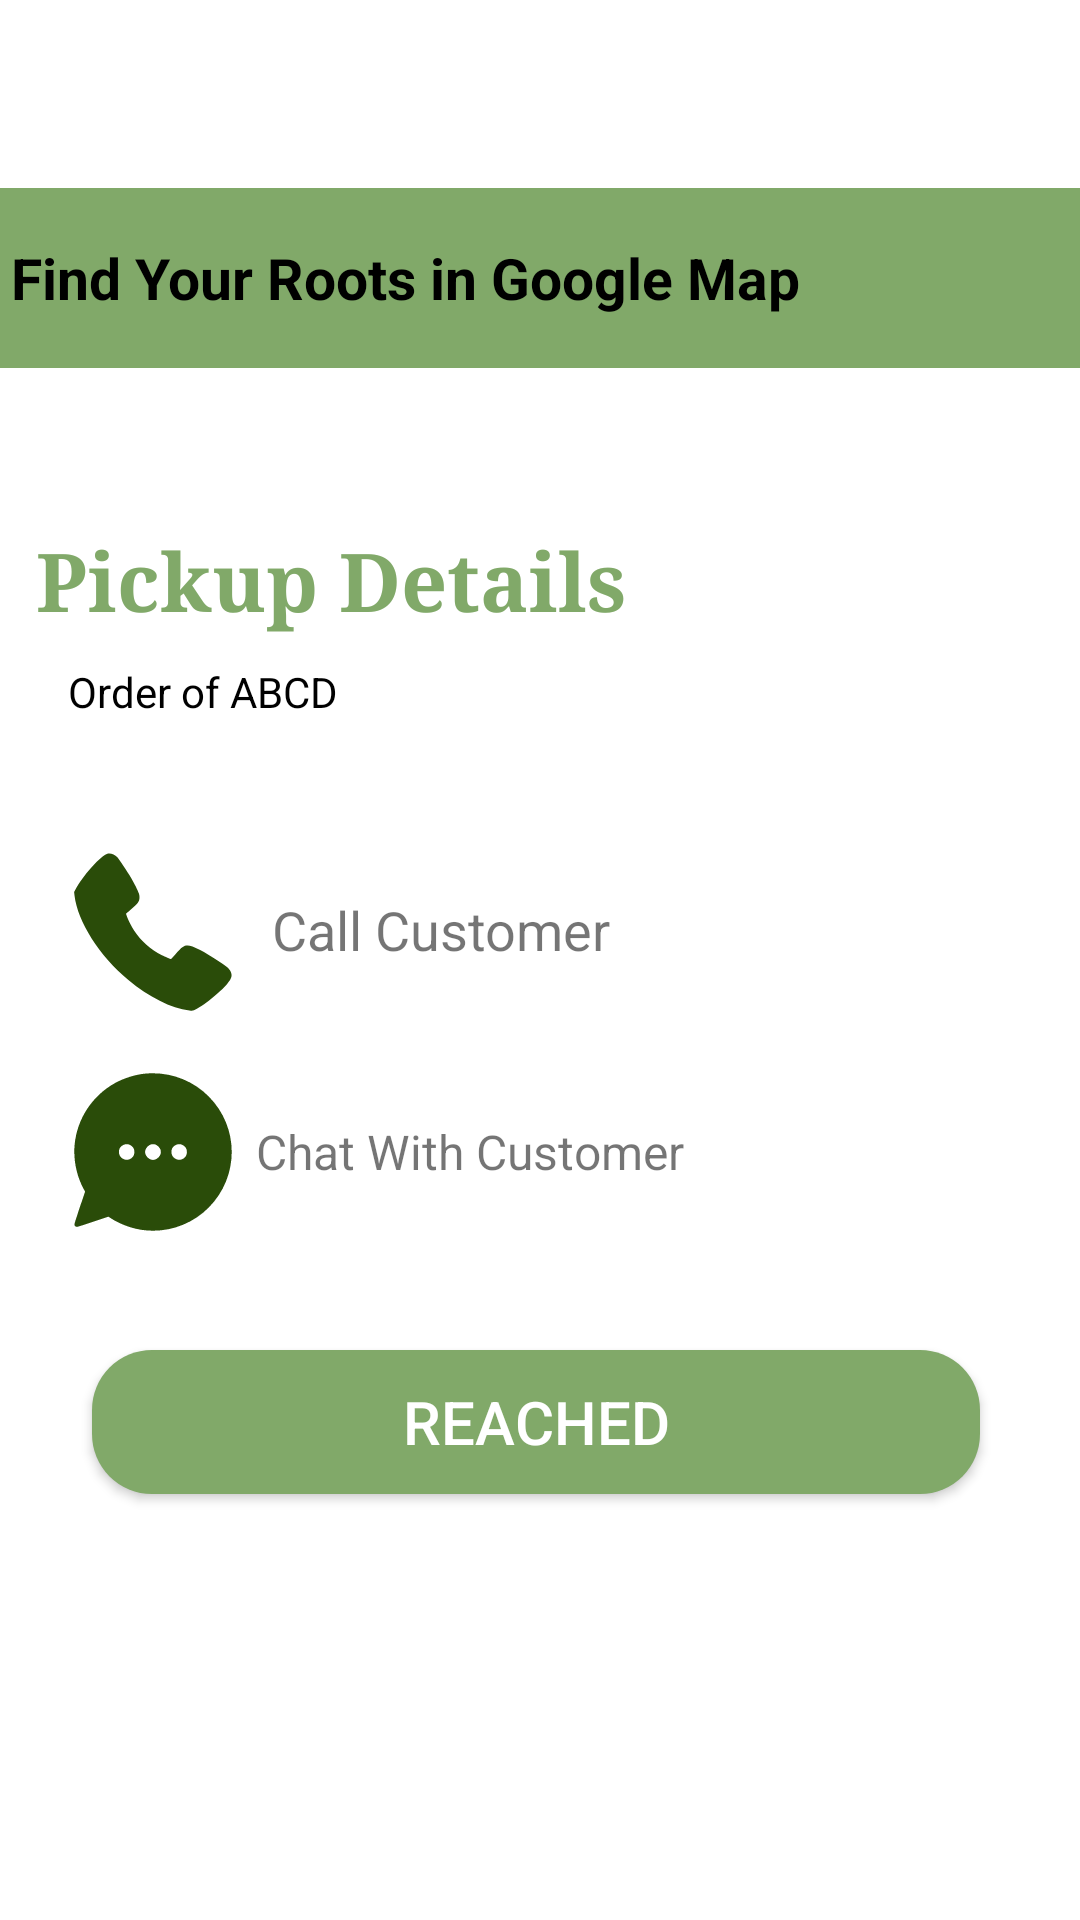

Point at icon controls on the screen. Image size 1080 × 1920, points as (x,y).
phone call: (153,932)
